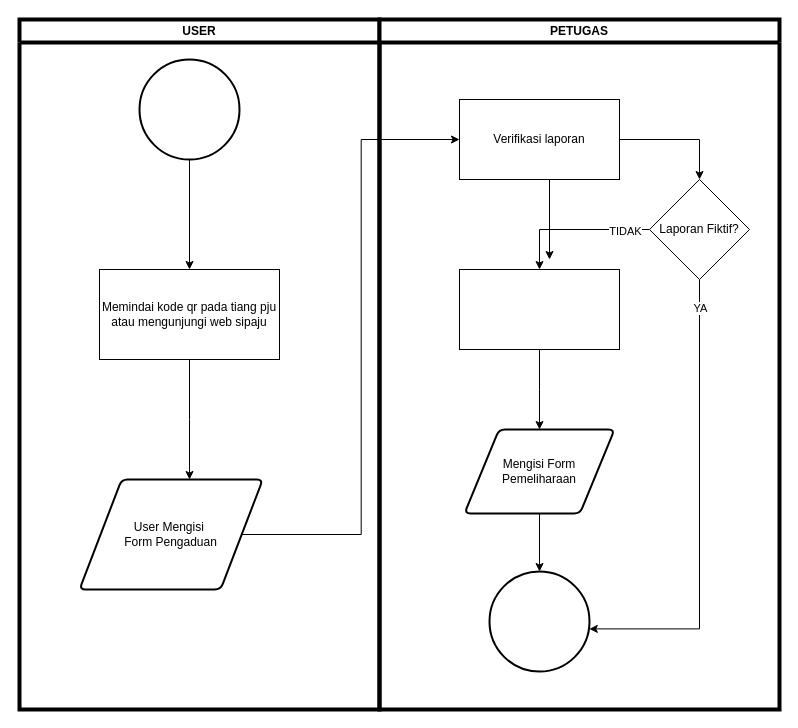
Some shapes in this 798 by 728 pixel diagram are drawn without their labels. The centre of each missing label's shape, as x and y in pixels:
"Mulai" goes at [189,109].
"PETUGAS MELAKUKAN PEMELIHARAAN" goes at [539,309].
"Selesai" goes at [539,621].
